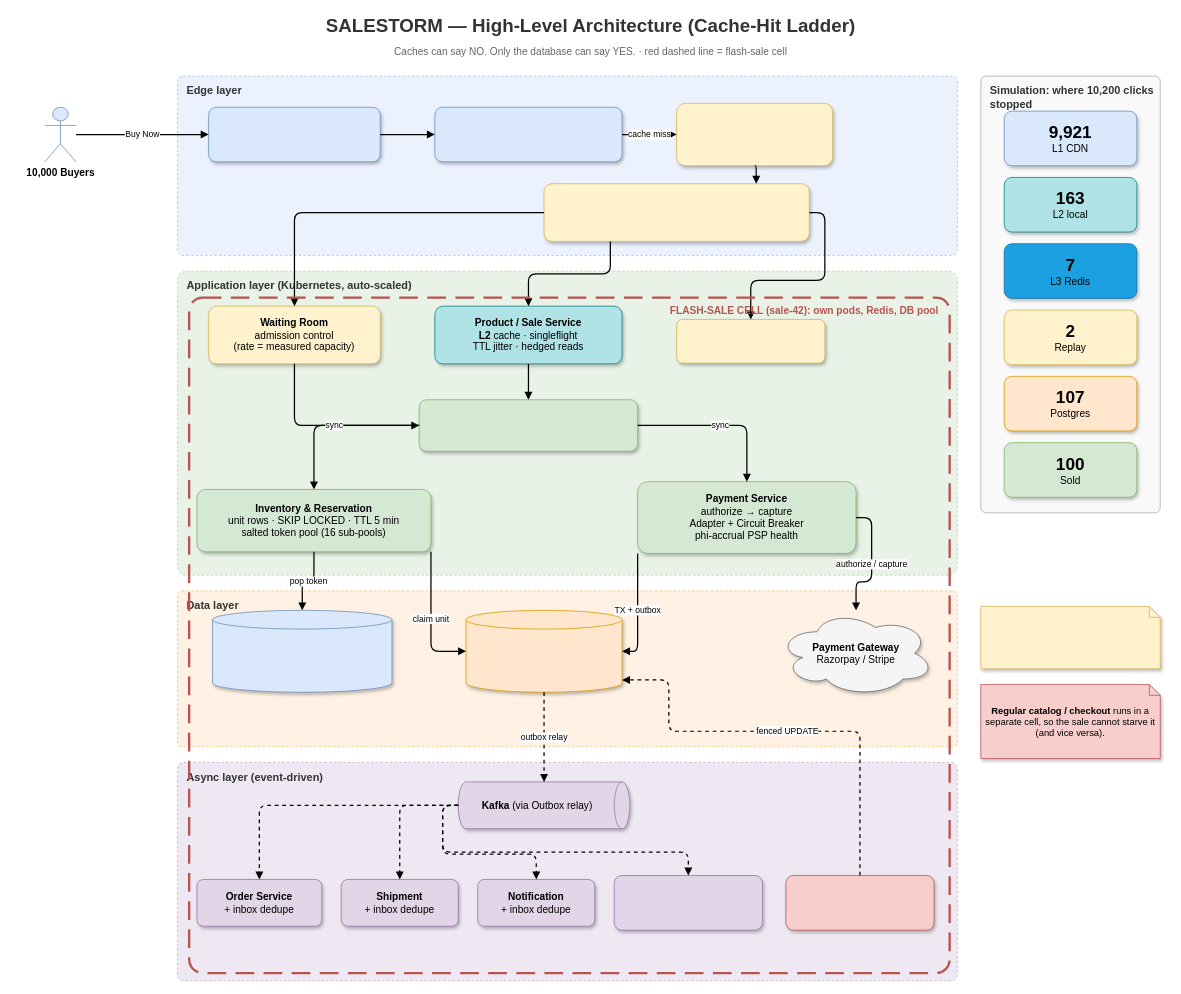
This 1181x994 diagram has some shape labels left out. Here are the shapes that lost their labels. From the top down, the centre of each, then its label:
the point at 295,135: L0 · Browser cache static assets, countdown, Buy button debounce
the point at 529,135: L1 · CDN + WAF product pages + SOLD_OUT flag
the point at 755,135: Load Balancer P2C least-in-flight outlier ejection
the point at 677,213: API Gateway JWT · rate limit · Idempotency-Key LoadShedder · RetryBudget
the point at 751,342: Cart Service
the point at 528,426: Checkout Orchestrator Facade + Saga
the point at 303,652: L3 · Redis 100 tokens in 16 salted keys idempotency
the point at 544,652: L4 · Postgres source of truth fenced writes · inbox
the point at 1071,638: Caches can say NO. Only the database can say YES .
the point at 688,904: Reconciliation late events (watermark)
the point at 860,904: Expiry sweeper lease + fence token
